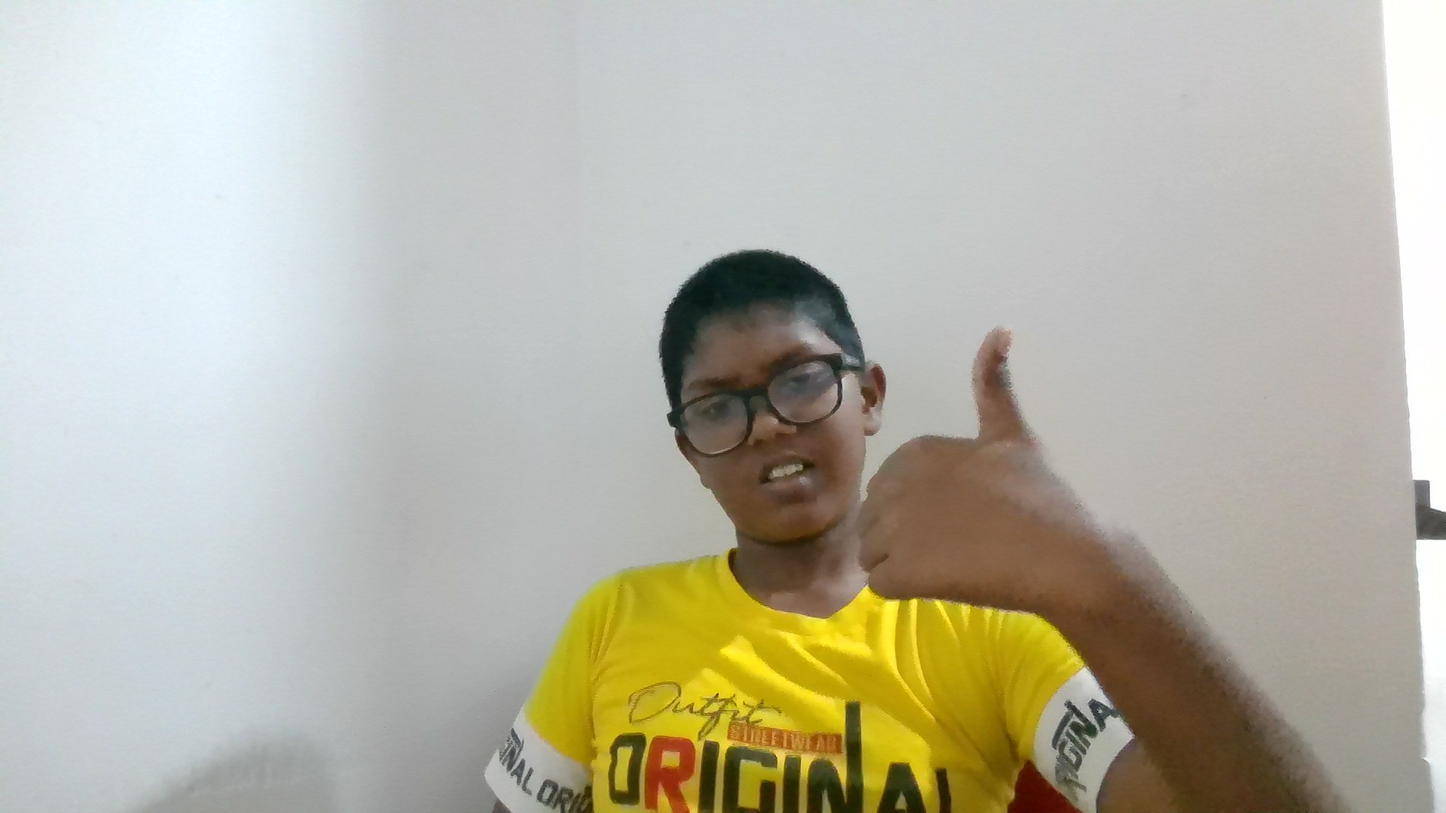Thumbs Up: (834, 263, 1232, 737)
